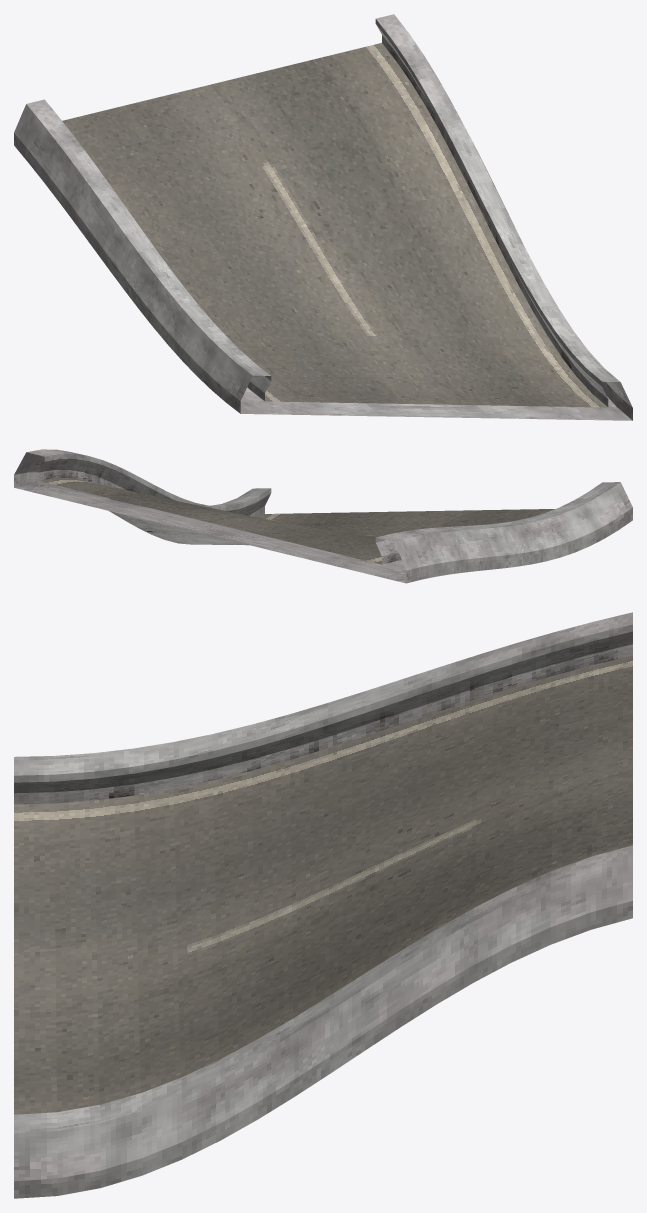
The model's file is straight1.glb.
3 views of the same model, one above another, from view 1: azimuth 30°, elevation 25°; view 2: azimuth 150°, elevation 25°; view 3: azimuth 270°, elevation 25° (orthographic). The views are drawn at different scales.
Visible parts, largest first — view 1: road-Straight-HalfBankedRight-BiSlopeUp-Up2-Center-Size1; view 2: road-Straight-HalfBankedRight-BiSlopeUp-Up2-Center-Size1; view 3: road-Straight-HalfBankedRight-BiSlopeUp-Up2-Center-Size1.
Part boxes in pixels (x1,y1,x2,y2): road-Straight-HalfBankedRight-BiSlopeUp-Up2-Center-Size1: [14, 14, 632, 420]; road-Straight-HalfBankedRight-BiSlopeUp-Up2-Center-Size1: [14, 449, 632, 583]; road-Straight-HalfBankedRight-BiSlopeUp-Up2-Center-Size1: [14, 612, 632, 1198].
Bounding box in the file's own units: 1 × 0.5937 × 1.
2 materials, 2 textured.
